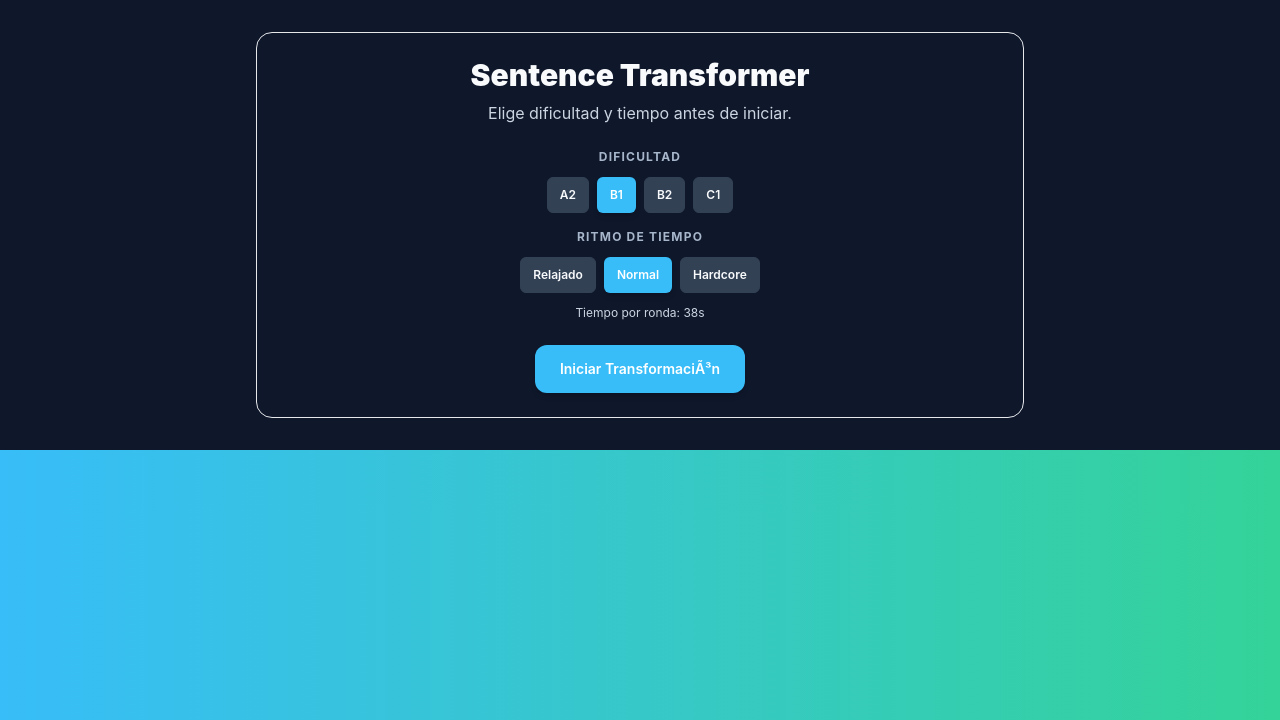
Test: SentenceTransformerView › renders title and transformation label
Click the button "Iniciar TransformaciÃ³n": point(640, 369) [535,345,745,393]
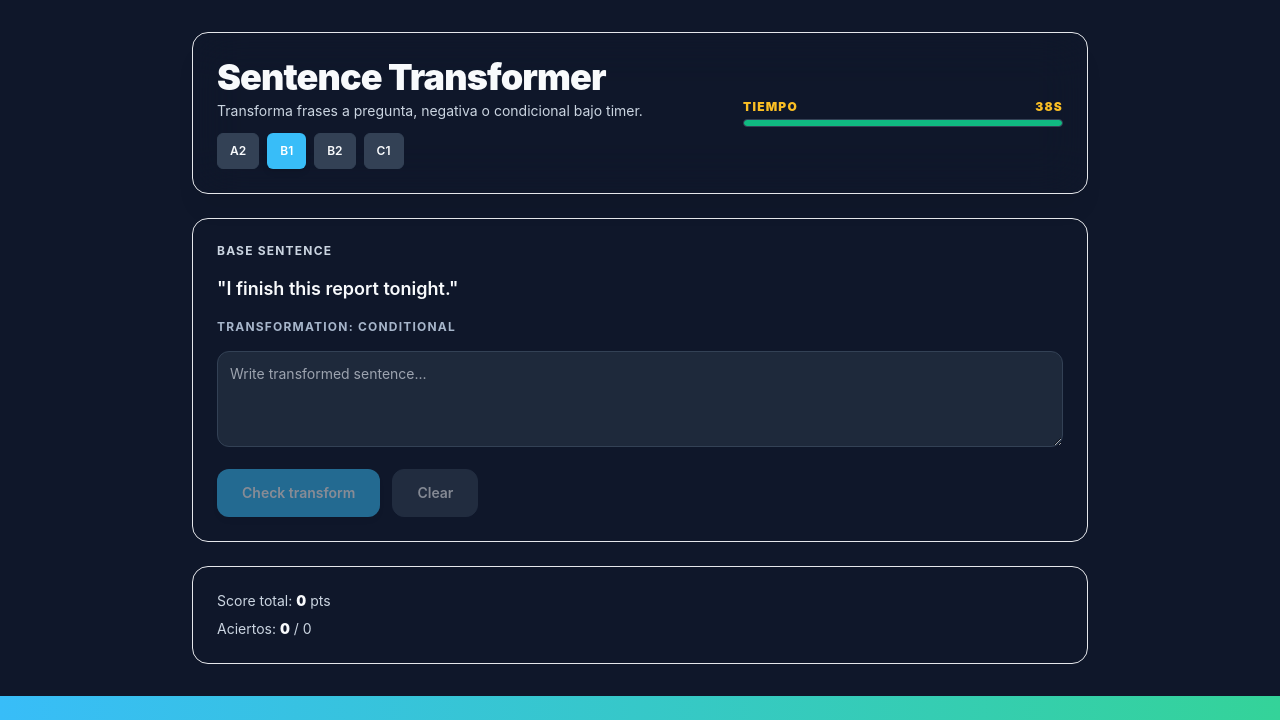
Expected: the heading "Sentence Transformer" is shown, [217,57,643,97]
Result: the text "Transformation: Conditional" is shown at [217,319,456,334]
